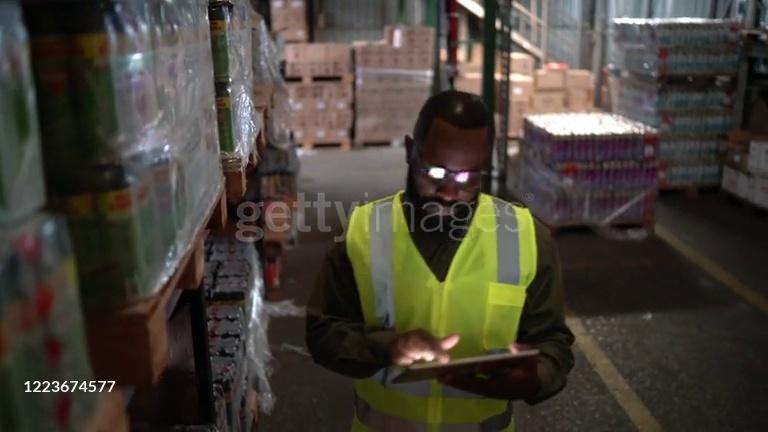person: (302, 89, 576, 432)
